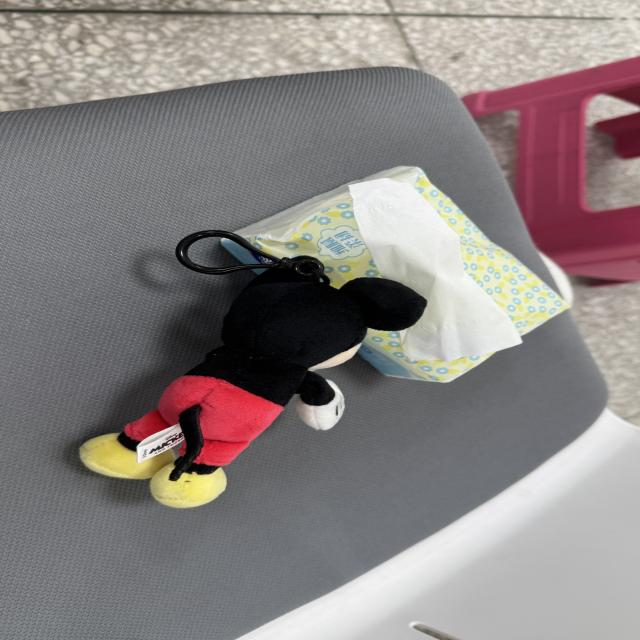mickey: (81, 269, 426, 507)
tissue: (238, 167, 568, 382), (350, 179, 521, 360)
